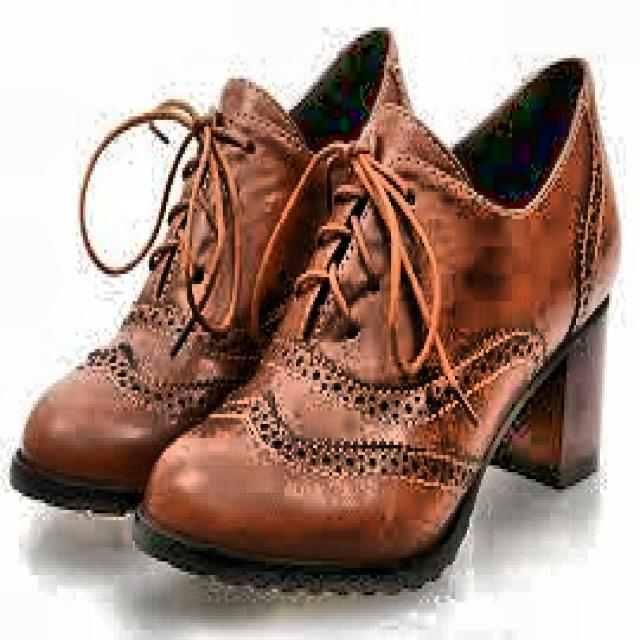shoes: (12, 24, 620, 598)
